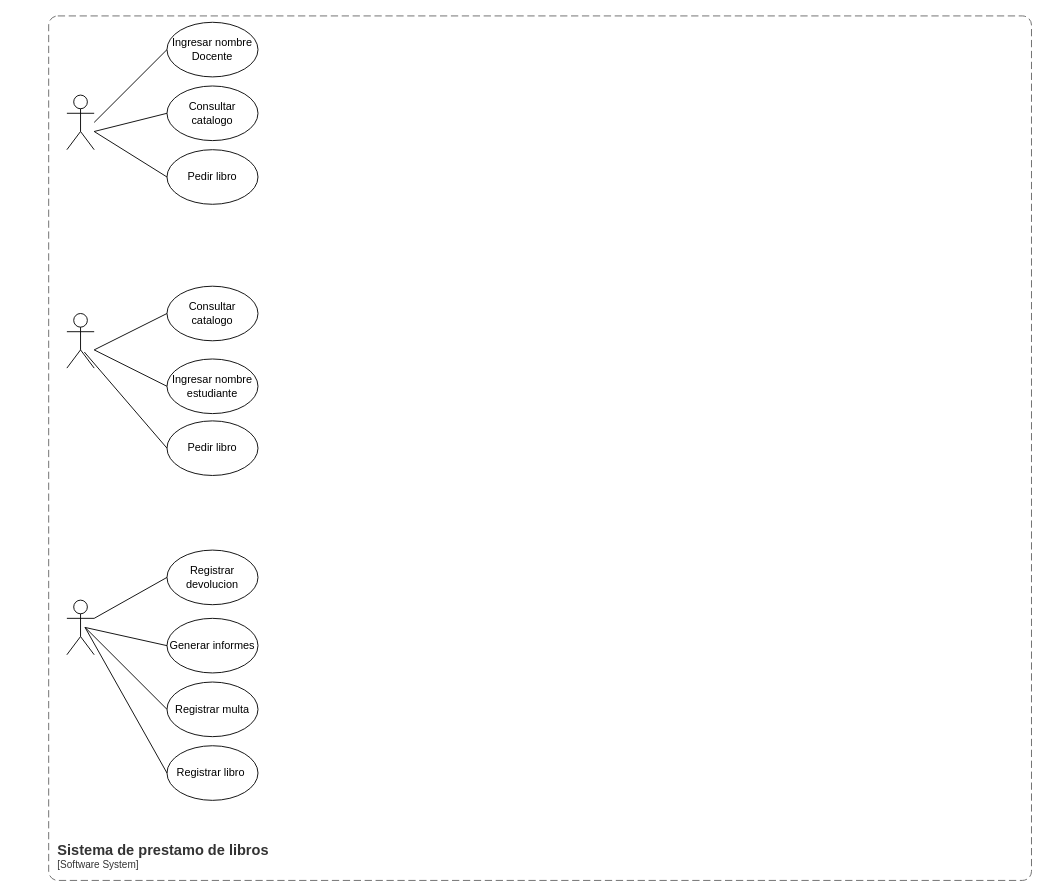
Some shapes in this 1047 by 896 pixel diagram are drawn without their labels. Here are the shapes that lost their labels. From the top down, the centre of each, then its label:
pixel 80 122: Docente
pixel 80 340: Estudiante
pixel 80 627: Bibliotecario/Administrador
